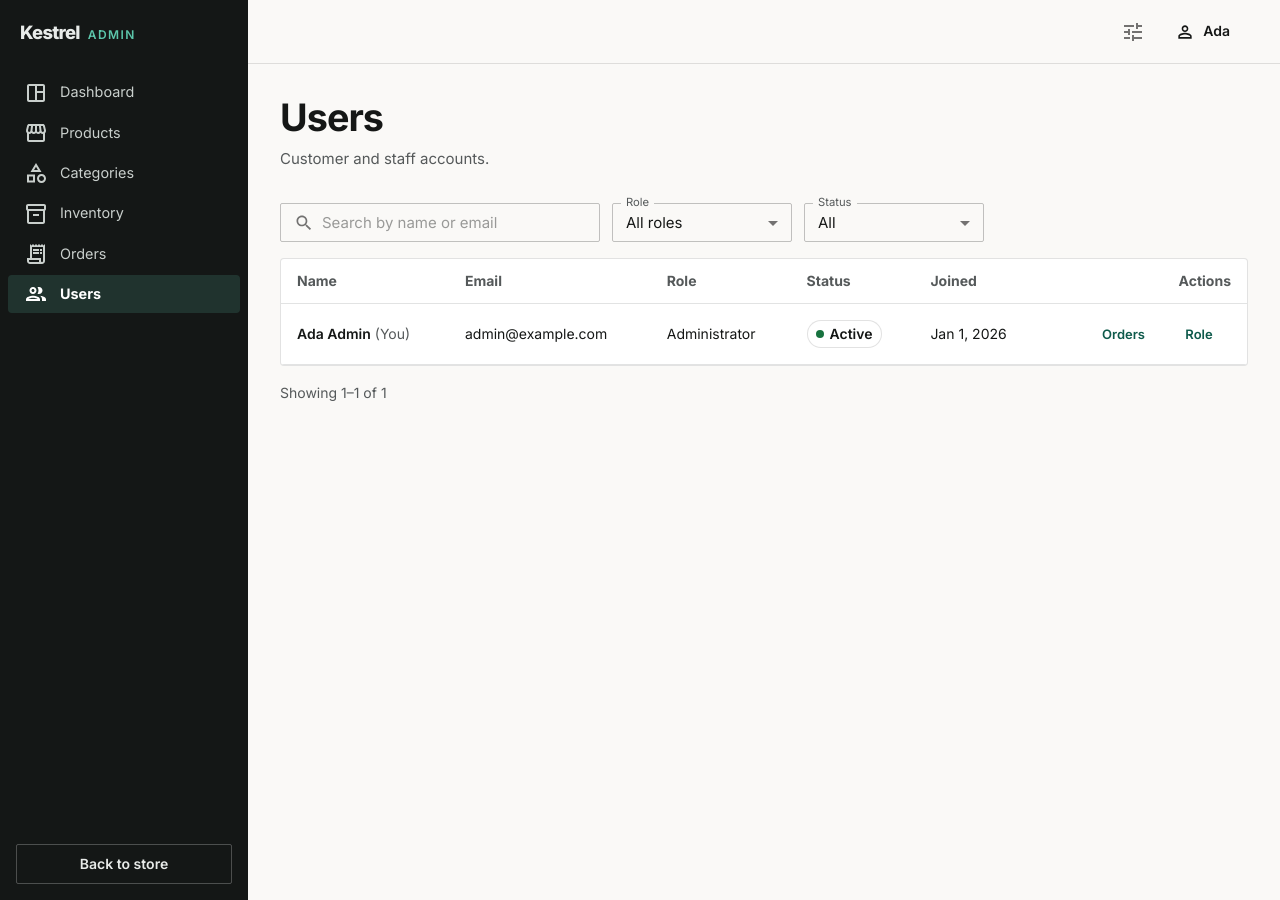
it: admin users › cannot remove your own administrator role
Step 1. Click the button with aria-label "Edit roles of Ada Admin" → (1199, 334), box x1=1167 y1=314 x2=1231 y2=354
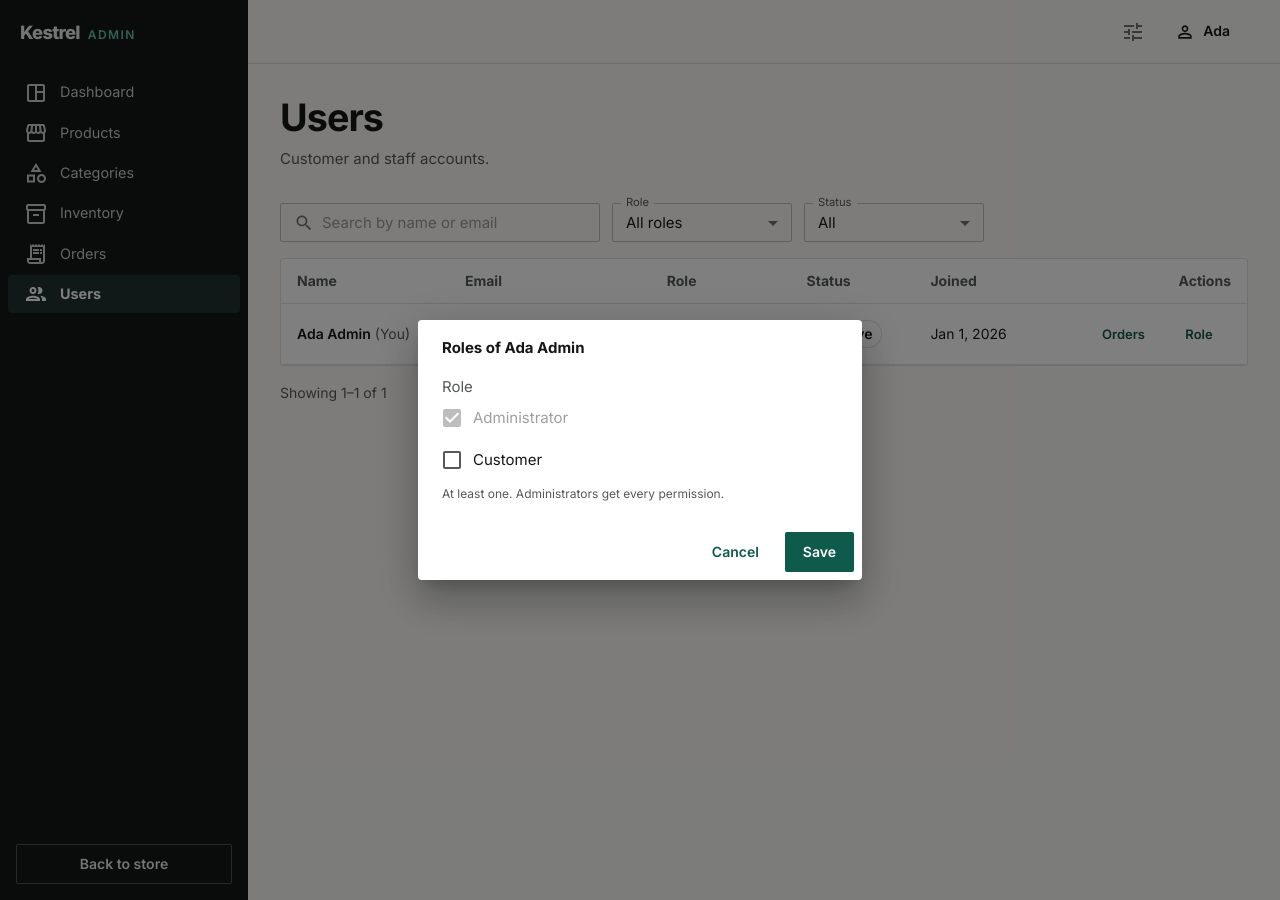
Check: the checkbox labelled "Administrator" is disabled, box x1=440 y1=406 x2=568 y2=430
Check: the checkbox labelled "Customer" is enabled, box x1=440 y1=448 x2=542 y2=472
